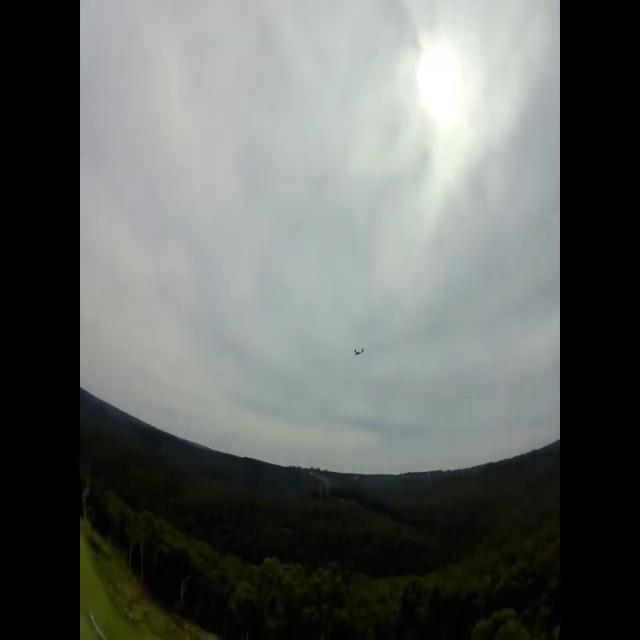iha: (357, 351, 361, 354)
